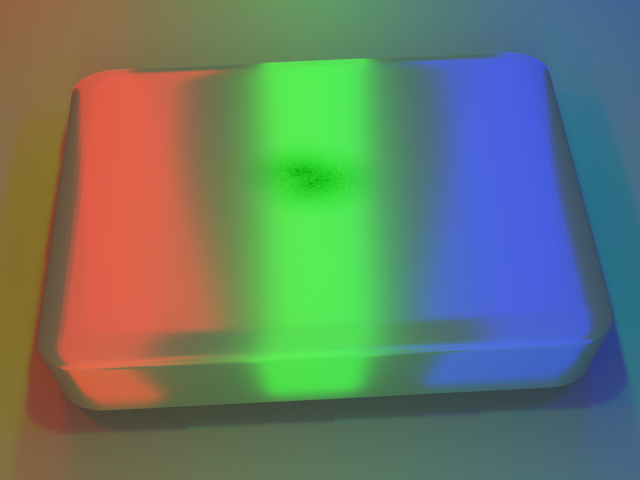stain: (217, 116, 417, 229)
